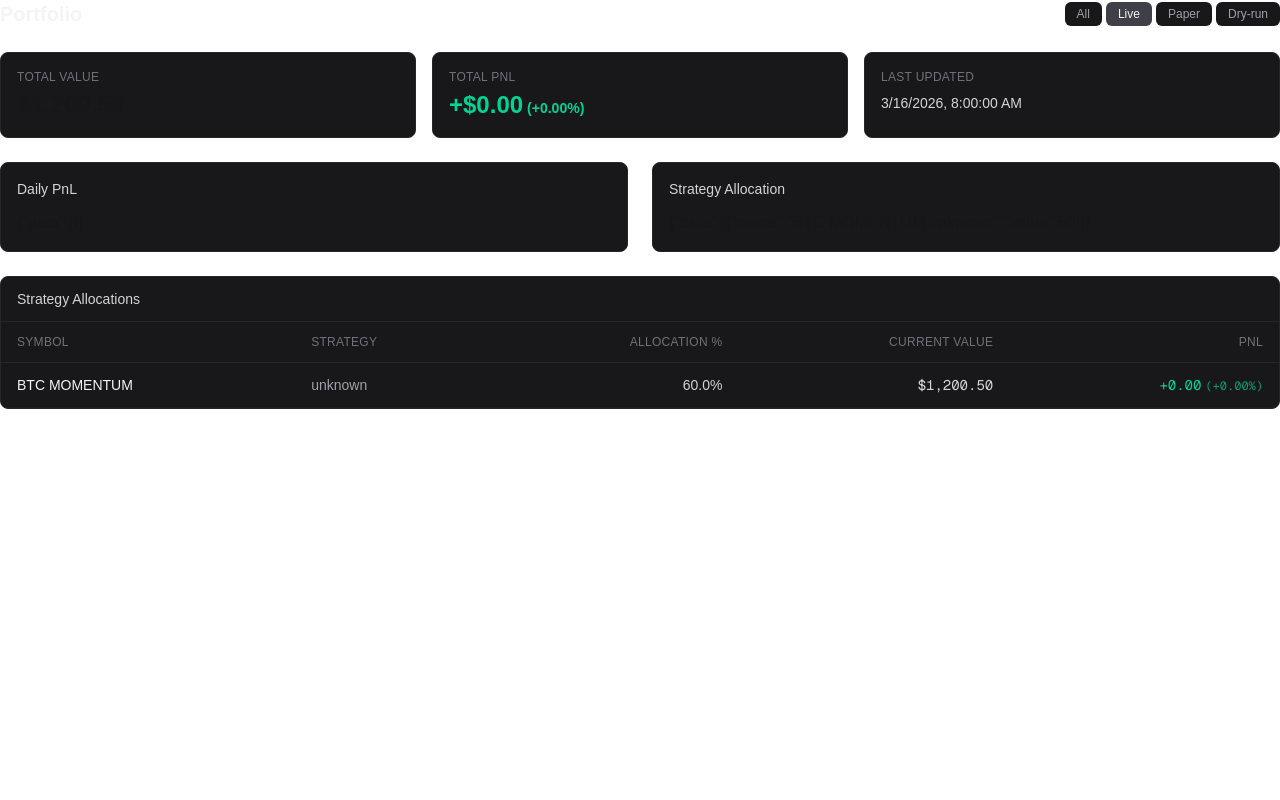
Scenario: Portfolio Page › derives strategy data from positions and opens the detail panel
Click the text "BTC MOMENTUM": click(75, 385) [1, 362, 295, 408]
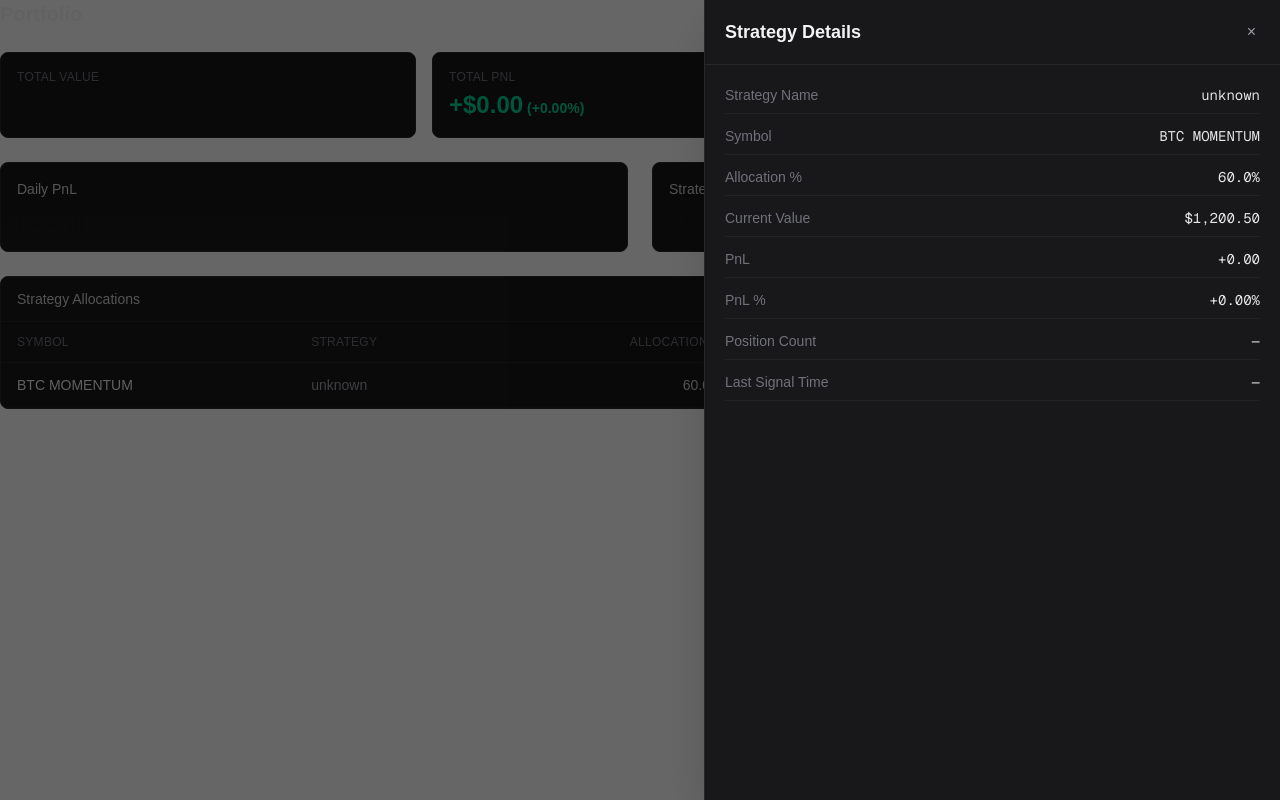
Check: the dialog "Strategy Details" is shown, box [704, 0, 1279, 799]
Check: the text "Position Count" is shown, box [725, 331, 816, 351]
Check: the text "Last Signal Time" is shown, box [725, 372, 828, 392]
